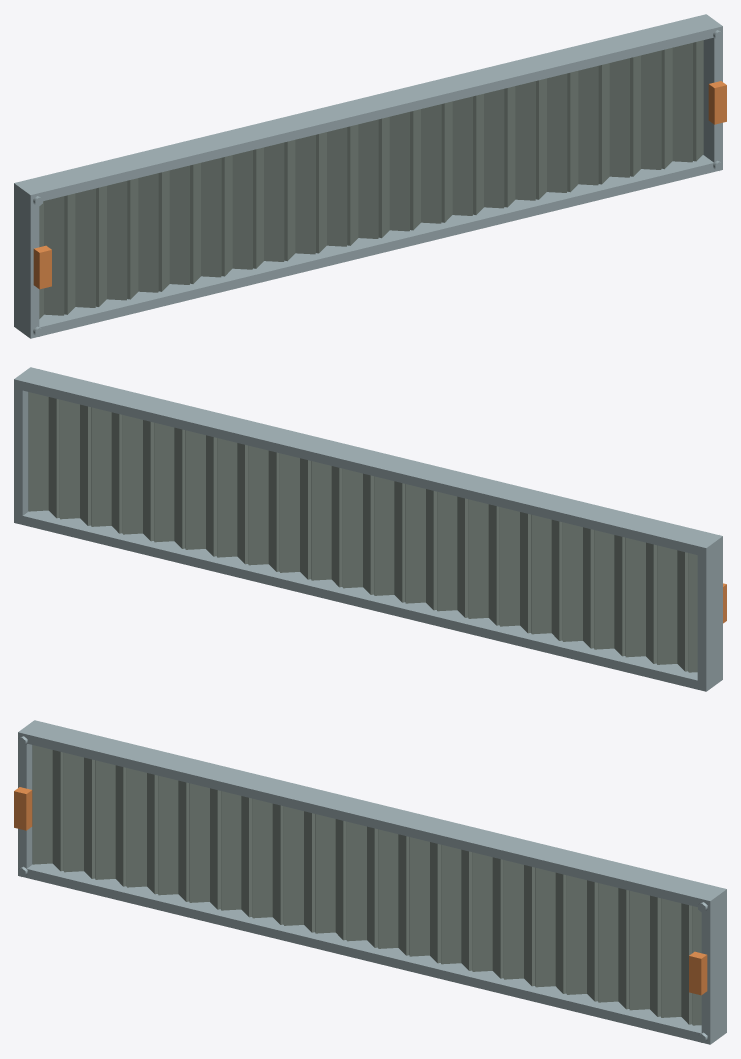
Rendered from filter-pleated.glb.
The picture shows the model from 3 angles, top to bottom: view 1: azimuth 30°, elevation 25°; view 2: azimuth 150°, elevation 25°; view 3: azimuth 330°, elevation 25°; orthographic projection.
Parts seen in each view (by area): view 1: Filter fibres, Brushed aluminium, Industrial orange; view 2: Filter fibres, Brushed aluminium; view 3: Filter fibres, Brushed aluminium, Industrial orange.
Part boxes in pixels (x1,y1,x2,y2): Filter fibres: [39, 40, 703, 318]; Brushed aluminium: [14, 14, 722, 338]; Industrial orange: [33, 81, 726, 289]; Filter fibres: [28, 392, 697, 672]; Brushed aluminium: [14, 367, 722, 691]; Filter fibres: [32, 745, 701, 1025]; Brushed aluminium: [18, 720, 726, 1044]; Industrial orange: [14, 787, 707, 995].
Size of the model in its own units: 5.55 by 1.1 by 0.32.
